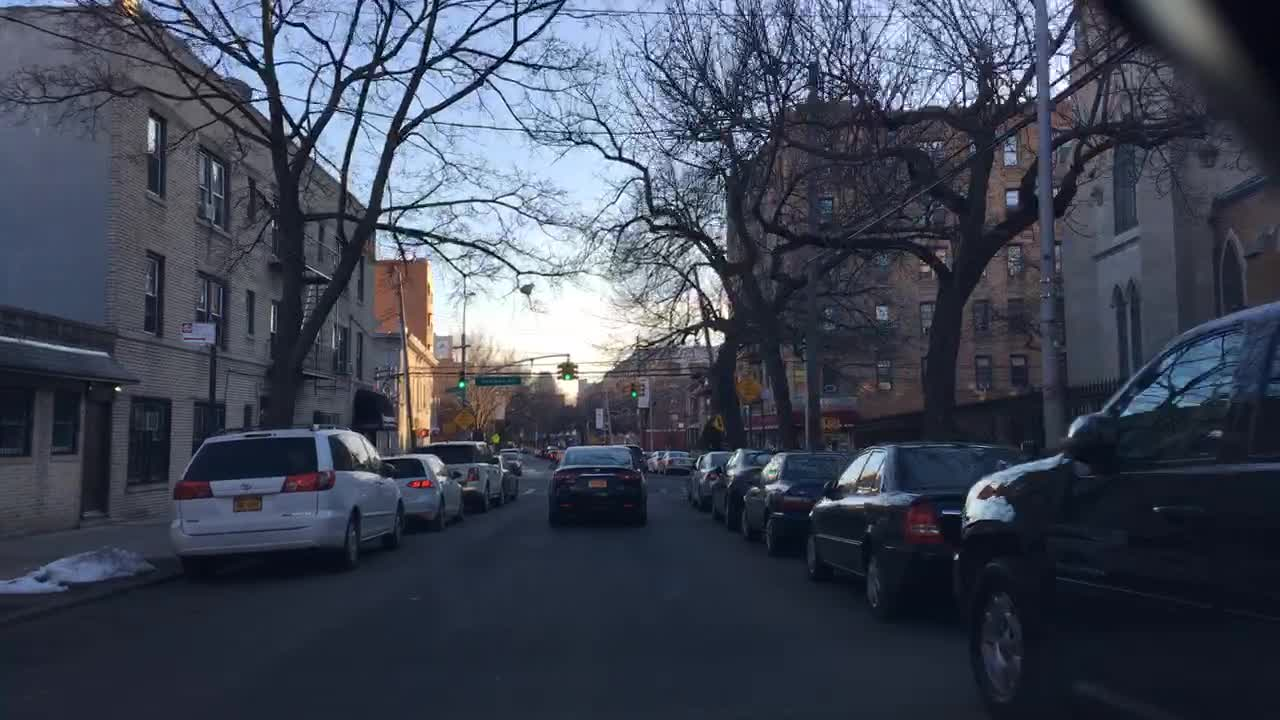car: (950, 296, 1278, 718), (803, 441, 1033, 622), (167, 420, 408, 582), (738, 447, 852, 555), (544, 443, 650, 528), (413, 440, 505, 513), (380, 454, 463, 529), (705, 447, 774, 531), (684, 448, 737, 509), (657, 448, 696, 474), (500, 467, 520, 500), (645, 448, 666, 474), (502, 452, 524, 475), (629, 445, 651, 465), (549, 449, 569, 470), (543, 443, 558, 458), (545, 448, 560, 461), (499, 446, 523, 454), (532, 445, 544, 459)
traffic light: (561, 361, 572, 382), (573, 362, 582, 384), (628, 381, 637, 401), (622, 380, 628, 406), (638, 383, 646, 399), (554, 362, 561, 380), (455, 383, 467, 389)
traffic sign: (736, 375, 765, 404), (448, 405, 474, 432), (474, 374, 525, 385), (710, 412, 723, 430)
